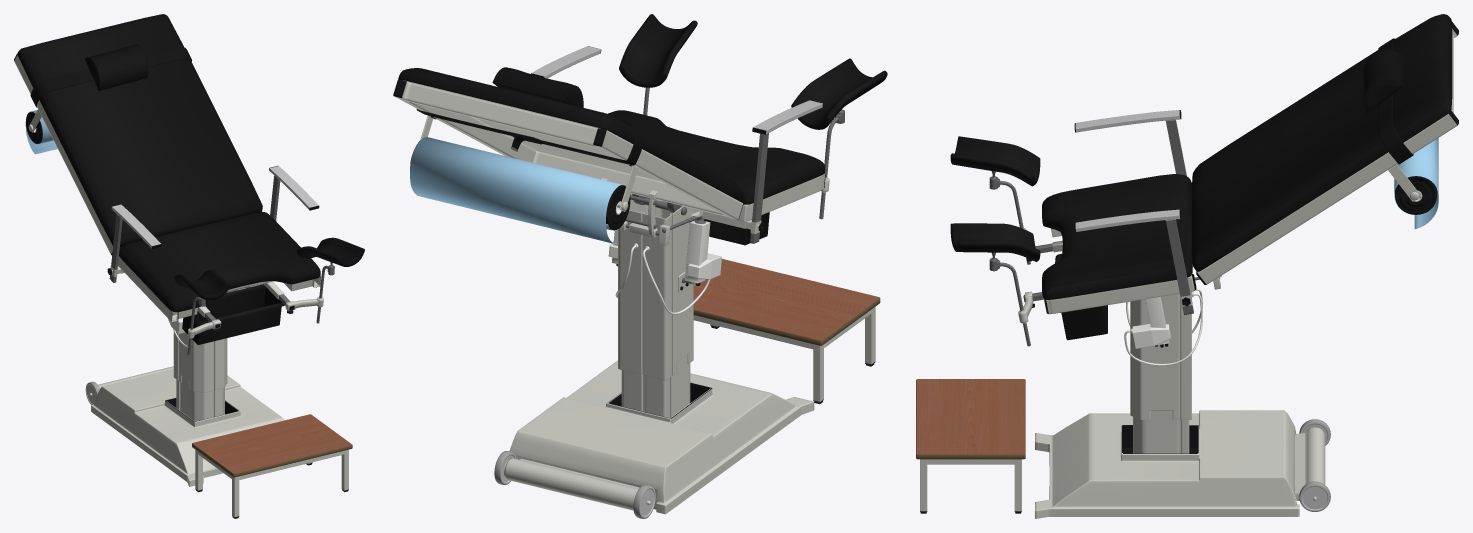
The model's file is exam_bed.glb.
3 views of the same model, side by side, from view 1: azimuth 30°, elevation 25°; view 2: azimuth 150°, elevation 25°; view 3: azimuth 270°, elevation 25° (orthographic). The views are drawn at different scales.
Parts seen in each view (by area): view 1: Object_19, Object_13, Object_9, Object_7, Object_14, Object_12, Object_4, Object_3, Object_15, Object_5, Object_21, Object_10 (+1 smaller); view 2: Object_13, Object_19, Object_22, Object_14, Object_9, Object_4, Object_12, Object_15, Object_20, Object_3, Object_21, Object_5 (+4 smaller); view 3: Object_19, Object_13, Object_9, Object_14, Object_4, Object_15, Object_12, Object_21, Object_20, Object_22, Object_3, Object_7 (+5 smaller).
Boxes of the visible parts, <box> form: Object_19: <box>17,14,320,312</box>; Object_13: <box>14,55,322,486</box>; Object_9: <box>192,414,352,473</box>; Object_7: <box>182,284,284,344</box>; Object_14: <box>30,124,323,427</box>; Object_12: <box>170,276,323,421</box>; Object_4: <box>174,237,364,299</box>; Object_3: <box>195,449,348,517</box>; Object_15: <box>109,175,334,354</box>; Object_5: <box>30,47,191,107</box>; Object_21: <box>111,166,318,248</box>; Object_10: <box>192,443,352,477</box>; Object_13: <box>394,81,828,514</box>; Object_19: <box>398,67,825,204</box>; Object_22: <box>410,137,626,244</box>; Object_14: <box>516,178,829,509</box>; Object_9: <box>693,259,879,340</box>; Object_4: <box>619,14,887,129</box>; Object_12: <box>404,80,829,417</box>; Object_15: <box>511,87,844,283</box>; Object_20: <box>608,220,721,314</box>; Object_3: <box>693,307,875,401</box>; Object_21: <box>531,46,822,134</box>; Object_5: <box>416,109,643,165</box>; Object_19: <box>1042,14,1452,299</box>; Object_13: <box>1019,29,1457,518</box>; Object_9: <box>916,379,1025,454</box>; Object_14: <box>1018,192,1418,461</box>; Object_4: <box>950,136,1040,261</box>; Object_15: <box>989,120,1199,346</box>; Object_12: <box>1018,228,1221,453</box>; Object_21: <box>1075,110,1180,231</box>; Object_20: <box>1124,288,1202,365</box>; Object_22: <box>1394,138,1438,228</box>; Object_3: <box>920,459,1021,511</box>; Object_7: <box>1055,253,1107,340</box>.
Bounding box in the file's own units: 27.43 × 50.48 × 58.82.
16 materials, 9 textured.
